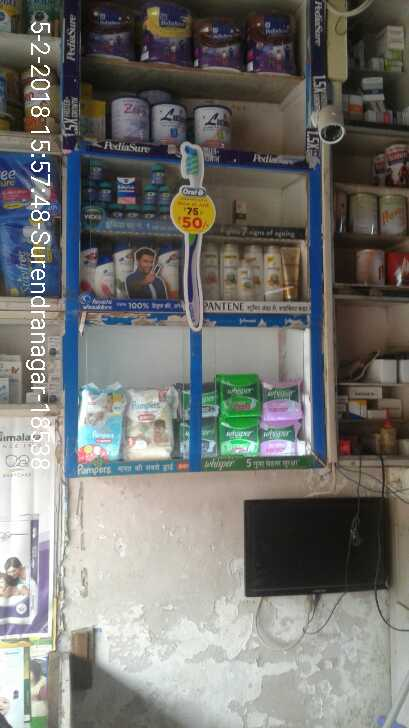vicks: (87, 159, 175, 214)
